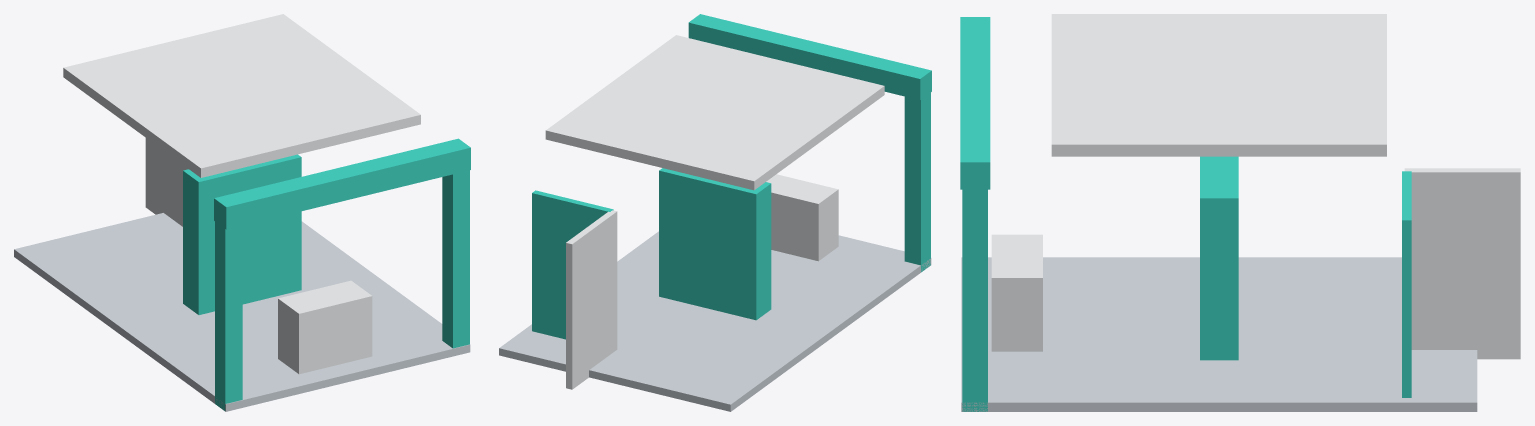
3 renders of one model, left to right at view 1: azimuth 30°, elevation 25°; view 2: azimuth 150°, elevation 25°; view 3: azimuth 270°, elevation 25°, orthographic. The views are drawn at different scales.
Visible parts, largest first — view 1: Exhibition Booth Concept; view 2: Exhibition Booth Concept; view 3: Exhibition Booth Concept.
Boxes of the visible parts, x1,y1,x2,y2 form: Exhibition Booth Concept: (14,14,470,411); Exhibition Booth Concept: (499,14,931,411); Exhibition Booth Concept: (960,14,1520,411).
Size of the model in its own units: 4 by 3.34 by 6.52.
